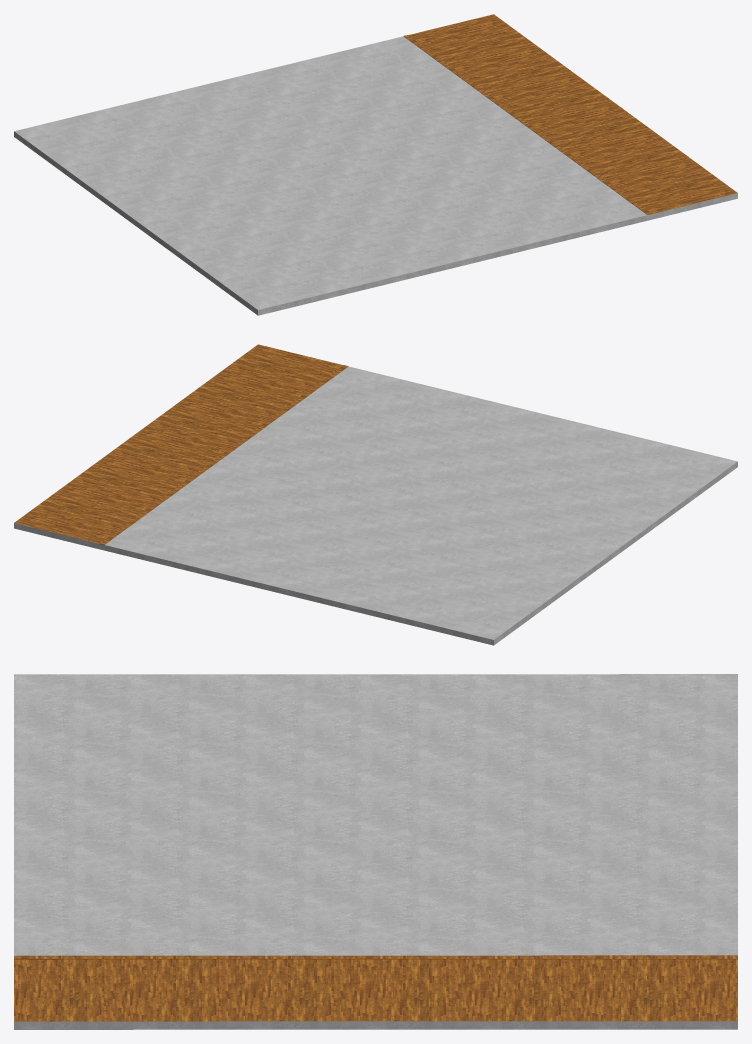
Rendered from Floor_c7a27648.obj.
3 views of the same model, one above another, from view 1: azimuth 30°, elevation 25°; view 2: azimuth 150°, elevation 25°; view 3: azimuth 270°, elevation 25° (orthographic). The views are drawn at different scales.
Parts seen in each view (by area): view 1: mesh_5df71f2b; view 2: mesh_5df71f2b; view 3: mesh_5df71f2b.
Part boxes in pixels (x1,y1,x2,y2): mesh_5df71f2b: (14, 14, 737, 315); mesh_5df71f2b: (14, 344, 737, 645); mesh_5df71f2b: (14, 674, 737, 1029).
Size of the model in its own units: 7.15 by 0.0861 by 6.3.
